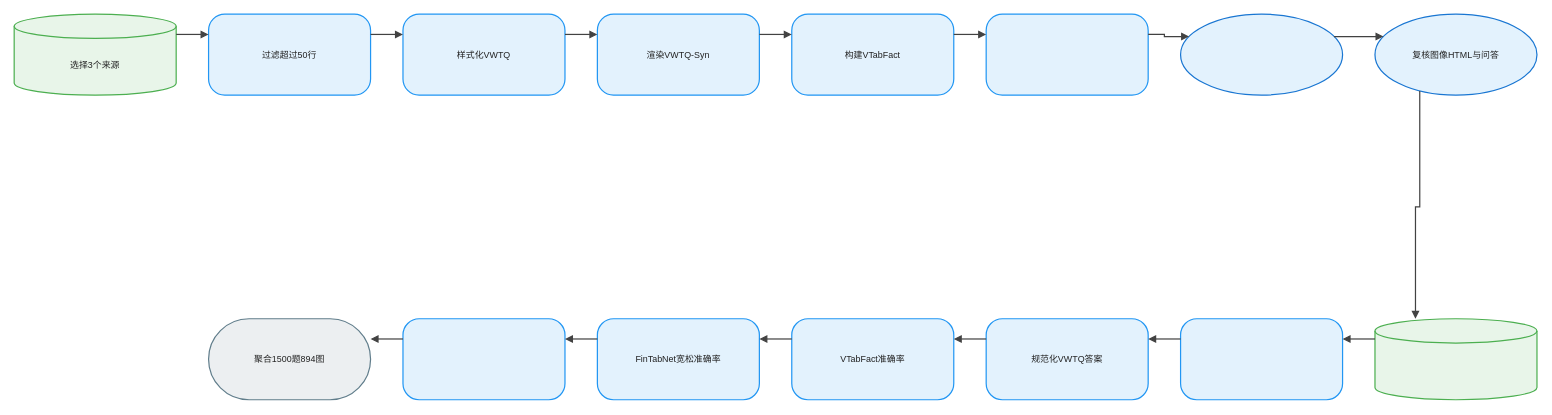
This 1552x415 diagram has some shape labels left out. Each missing label, with the box of its shape:
GPT-4生成FinTabNetQA: (985, 13, 1148, 95)
修正尺度单位: (1180, 13, 1343, 95)
冻结750 250 250 250: (1374, 318, 1537, 400)
报告4个子集: (402, 318, 565, 400)
运行表格图像问答: (1180, 318, 1343, 400)
